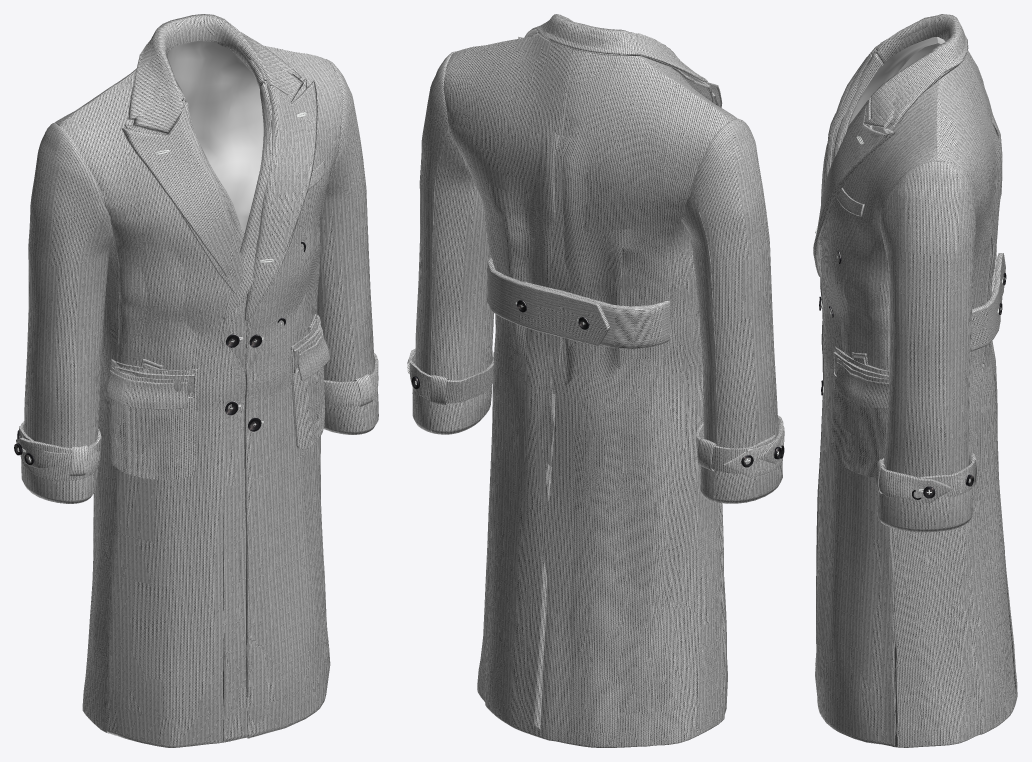
The model's file is overCoat.glb.
3 views of the same model, side by side, from view 1: azimuth 30°, elevation 25°; view 2: azimuth 150°, elevation 25°; view 3: azimuth 270°, elevation 25° (orthographic). The views are drawn at different scales.
Parts seen in each view (by area): view 1: 2Button_Lightly_padded, Lightly_Padded, 2Button_Structured, 6Button_Structured, peak, postbox_pocket, full, notch, CL2_3_4Button, Structured, 2button_vent_lightly_padded, 6Button_Lightly_Padded (+12 smaller); view 2: 2button_vent_lightly_padded, 6button_Structured_vent_Single, Lightly_Padded, 6button_Structured_Inverted_box_pleat, 2button_vent_lightly_padded_novent, 6buttonLightly_Padded_Inverted_box_pleat, 2button_vent_Structured, Martingale_Belt, Structured, cuffed, Full_Sleeve_Strap_with_buttons, Unconstructed (+11 smaller); view 3: Lightly_Padded, 2button_vent_lightly_padded, 2Button_Lightly_padded, 6Button_Lightly_Padded, 6button_Structured_vent_Single, 6button_Structured_Inverted_box_pleat, Structured, postbox_pocket, 2Button_Structured, 2button_vent_lightly_padded_novent, notch, peak (+14 smaller).
Boxes of the visible parts, left/top/right/bottom form: 2Button_Lightly_padded: left=100, top=71, right=326, bottom=747; Lightly_Padded: left=24, top=138, right=374, bottom=447; 2Button_Structured: left=60, top=47, right=342, bottom=738; 6Button_Structured: left=63, top=78, right=342, bottom=741; peak: left=121, top=15, right=317, bottom=321; postbox_pocket: left=106, top=324, right=329, bottom=479; full: left=167, top=41, right=263, bottom=232; notch: left=149, top=17, right=314, bottom=320; CL2_3_4Button: left=128, top=14, right=306, bottom=314; Structured: left=31, top=59, right=360, bottom=224; 2button_vent_lightly_padded: left=82, top=68, right=136, bottom=731; 6Button_Lightly_Padded: left=167, top=46, right=340, bottom=741; 2button_vent_lightly_padded: left=445, top=34, right=724, bottom=746; 6button_Structured_vent_Single: left=457, top=62, right=728, bottom=747; Lightly_Padded: left=415, top=115, right=778, bottom=448; 6button_Structured_Inverted_box_pleat: left=443, top=36, right=728, bottom=742; 2button_vent_lightly_padded_novent: left=455, top=50, right=724, bottom=747; 6buttonLightly_Padded_Inverted_box_pleat: left=451, top=49, right=723, bottom=742; 2button_vent_Structured: left=444, top=38, right=729, bottom=188; Martingale_Belt: left=487, top=257, right=670, bottom=348; Structured: left=423, top=51, right=763, bottom=212; cuffed: left=412, top=385, right=782, bottom=503; Full_Sleeve_Strap_with_buttons: left=407, top=348, right=783, bottom=473; Unconstructed: left=421, top=109, right=764, bottom=222; Lightly_Padded: left=880, top=203, right=976, bottom=477; 2button_vent_lightly_padded: left=892, top=54, right=1015, bottom=746; 2Button_Lightly_padded: left=815, top=109, right=908, bottom=737; 6Button_Lightly_Padded: left=815, top=80, right=939, bottom=746; 6button_Structured_vent_Single: left=896, top=116, right=1016, bottom=747; 6button_Structured_Inverted_box_pleat: left=894, top=68, right=1002, bottom=747; Structured: left=880, top=161, right=976, bottom=248; postbox_pocket: left=831, top=346, right=889, bottom=477; 2Button_Structured: left=821, top=103, right=936, bottom=429; 2button_vent_lightly_padded_novent: left=893, top=55, right=1017, bottom=746; notch: left=814, top=15, right=967, bottom=277; peak: left=813, top=18, right=967, bottom=257.
Bounding box in the file's own units: 3.63 × 6.49 × 1.79.
Materials: 4 (2 with a texture image).
